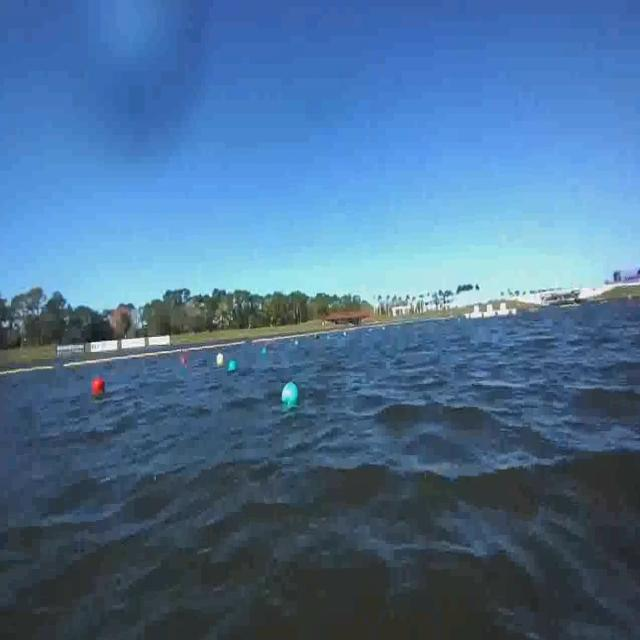green-buoy: (282, 381, 298, 404), (229, 359, 240, 373)
red-buoy: (91, 375, 105, 394)
red-column-buoy: (184, 351, 190, 367)
yellow-buoy: (216, 352, 224, 366)
